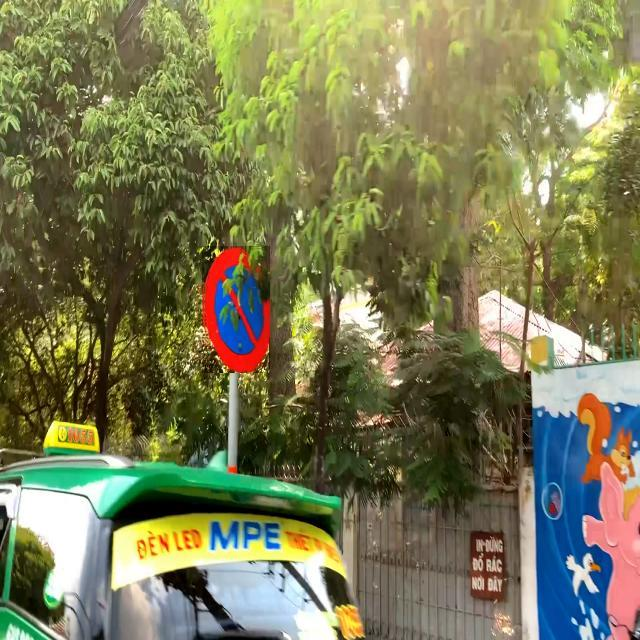P-131a: (203, 246, 271, 373)
